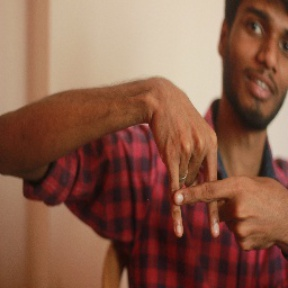H: (152, 143, 241, 242)
